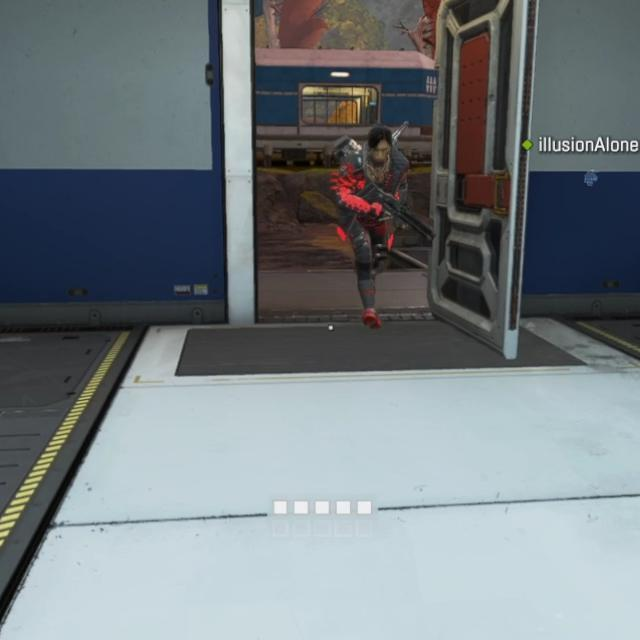avatar: (327, 124, 413, 330)
